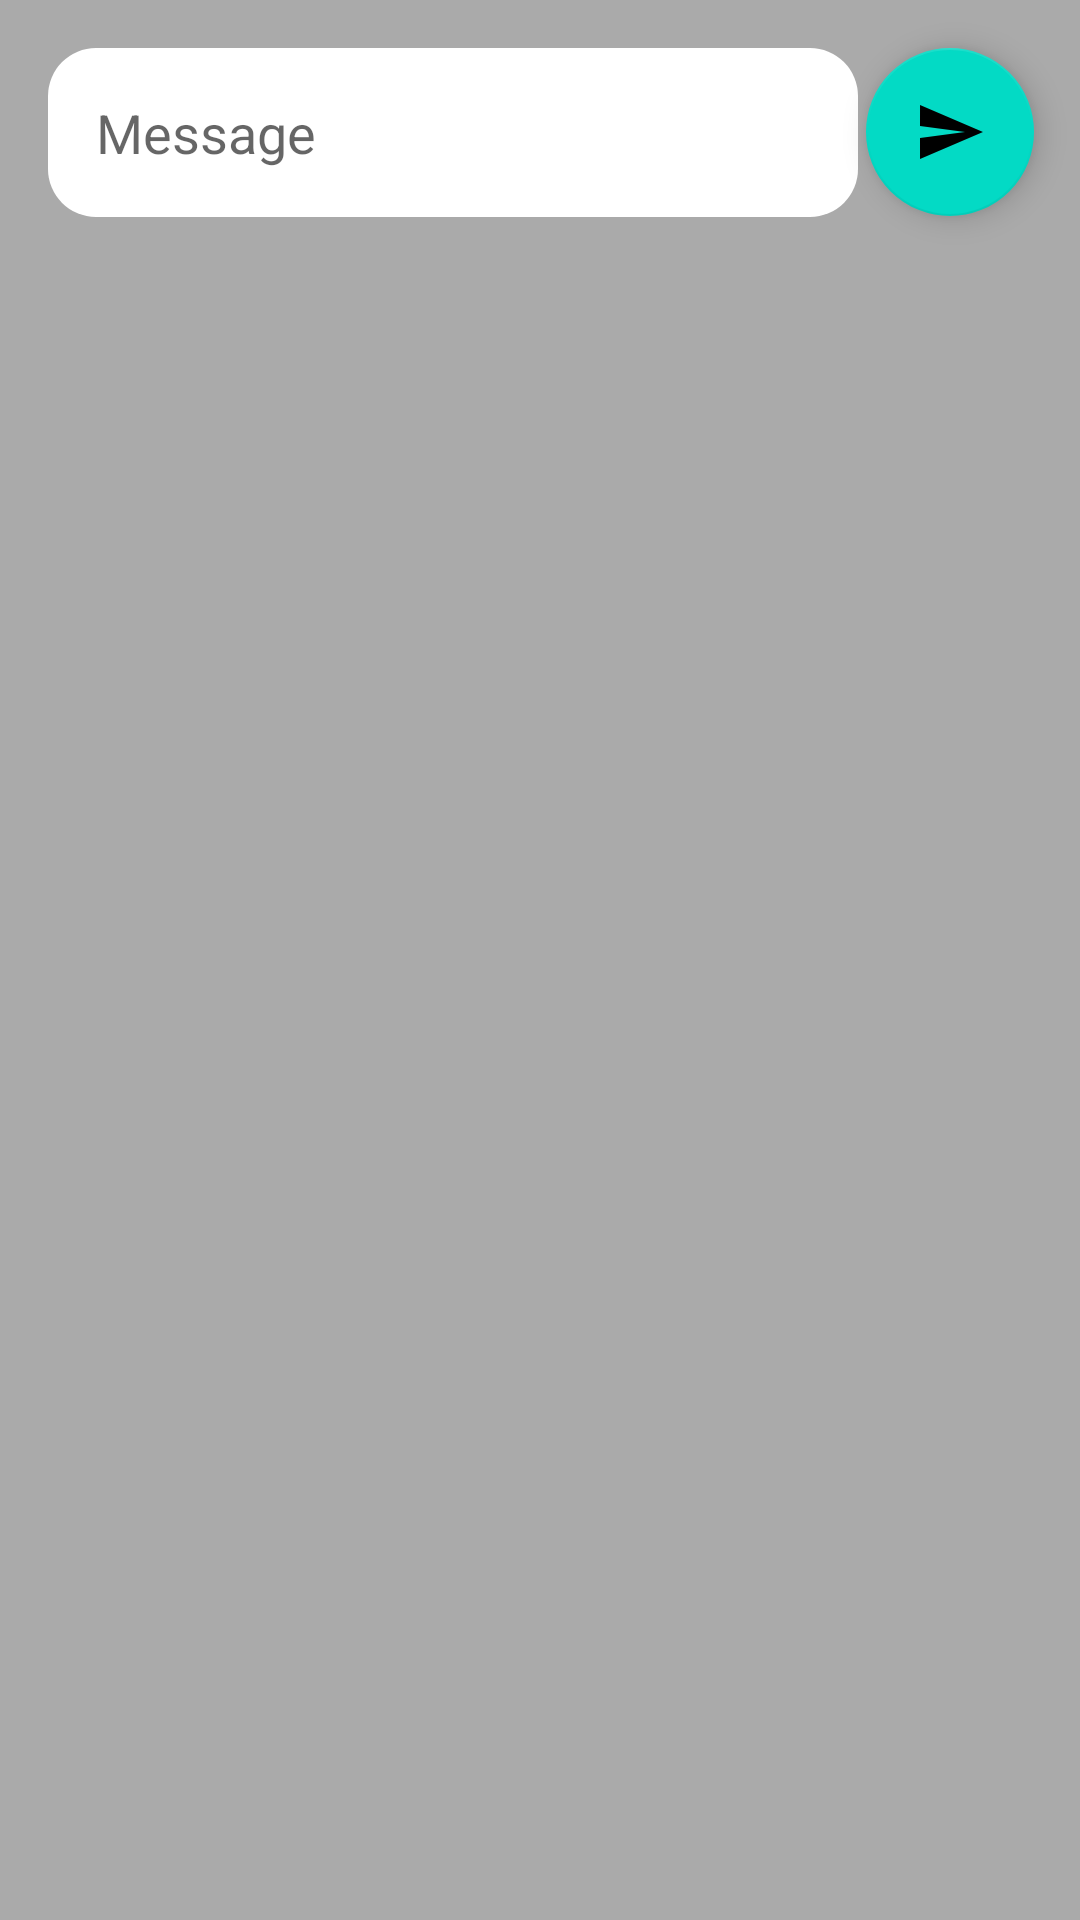

Screen size 1080px x 1920px. Icon name, then its center in pixels as (x=x, y=y):
send: (x=950, y=132)
